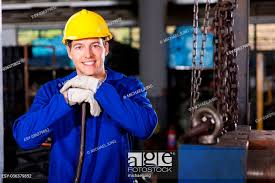Person_wearing_helmet: (58, 2, 112, 51)
